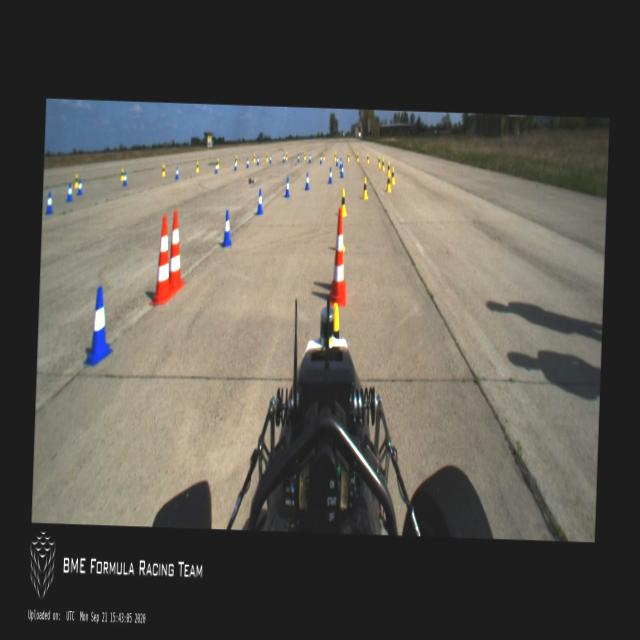blue_cone: (82, 286, 114, 365), (221, 208, 232, 246), (45, 192, 53, 213), (256, 188, 262, 214), (284, 178, 290, 196), (304, 172, 310, 190), (66, 182, 72, 200), (76, 179, 82, 194), (328, 167, 332, 183), (340, 162, 344, 178), (123, 172, 127, 185), (174, 166, 178, 179), (214, 162, 217, 174), (319, 154, 322, 164), (246, 158, 248, 168), (234, 160, 236, 169), (282, 153, 284, 162), (336, 156, 338, 165), (256, 156, 258, 164), (269, 154, 271, 162), (297, 154, 299, 162), (308, 154, 310, 162), (339, 158, 341, 166)
large_orange_cone: (148, 215, 174, 306), (329, 208, 348, 304), (168, 208, 186, 294)
yellow_cone: (340, 188, 346, 215), (362, 176, 368, 199), (386, 172, 391, 192), (386, 161, 391, 176), (390, 166, 394, 184), (74, 174, 78, 188), (120, 168, 124, 181), (381, 157, 384, 170), (377, 154, 380, 167), (196, 161, 199, 172), (162, 164, 164, 176), (366, 153, 368, 163), (356, 152, 358, 162), (347, 152, 349, 162), (217, 158, 219, 168), (285, 151, 287, 160), (253, 154, 255, 162), (303, 152, 305, 160), (322, 152, 324, 160), (334, 152, 336, 160)
